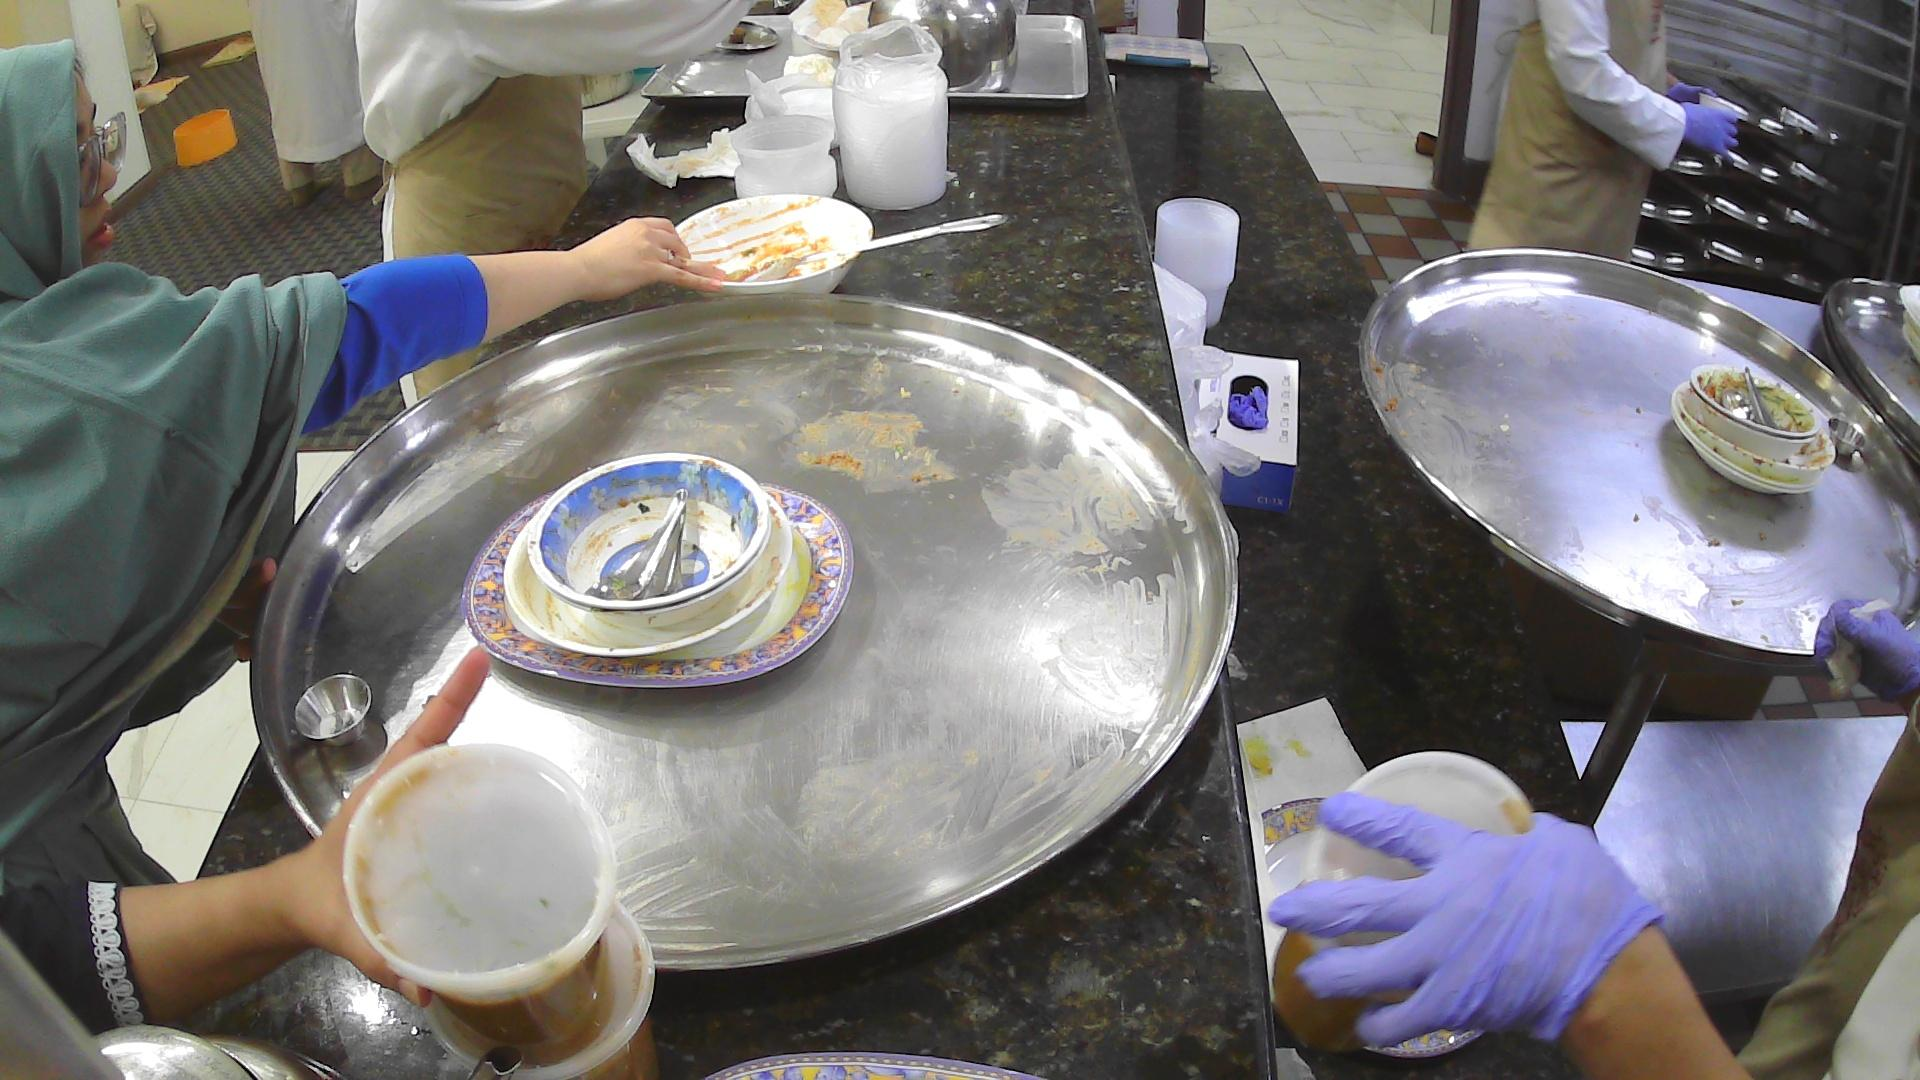thaal: (247, 287, 1244, 981), (1354, 236, 1920, 676), (1815, 266, 1920, 460)
